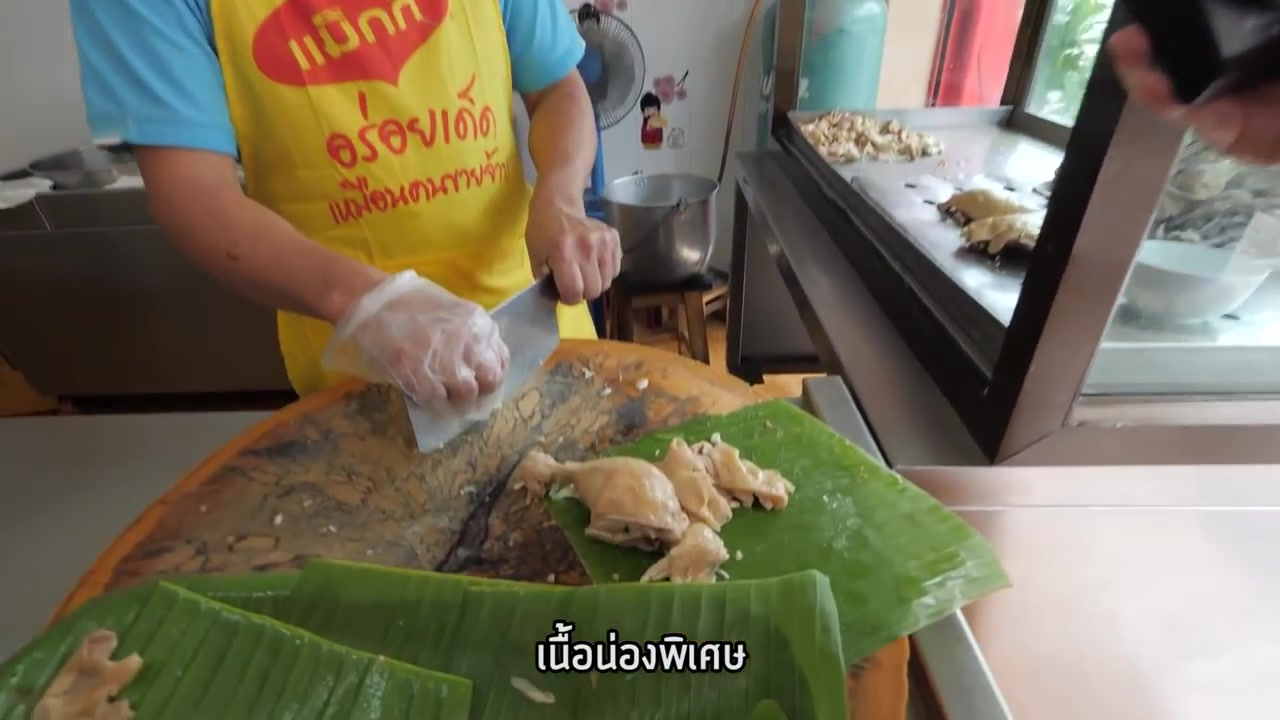text-label: (532, 620, 752, 675)
